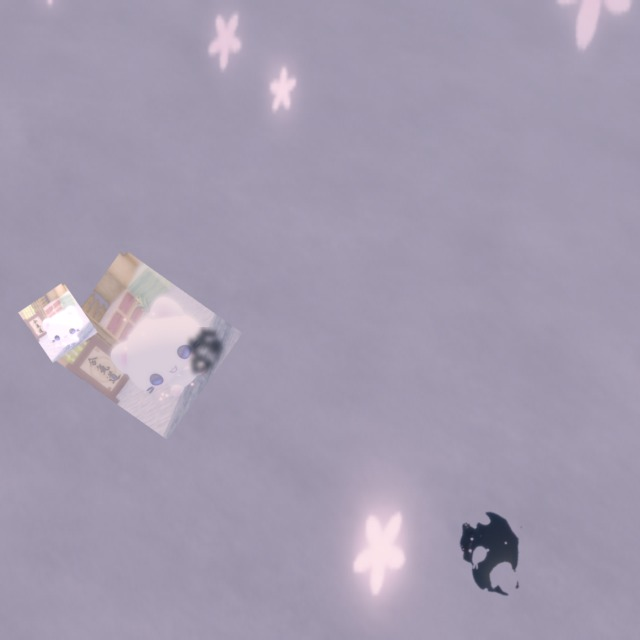urso_branco: (47, 248, 243, 440), (18, 282, 98, 363)
urso_preto: (448, 495, 536, 612), (180, 327, 226, 382)
